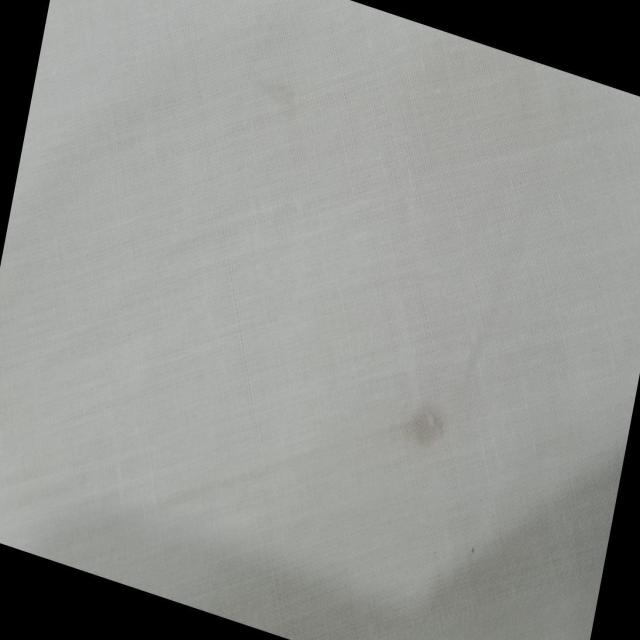stain: (390, 386, 456, 460)
